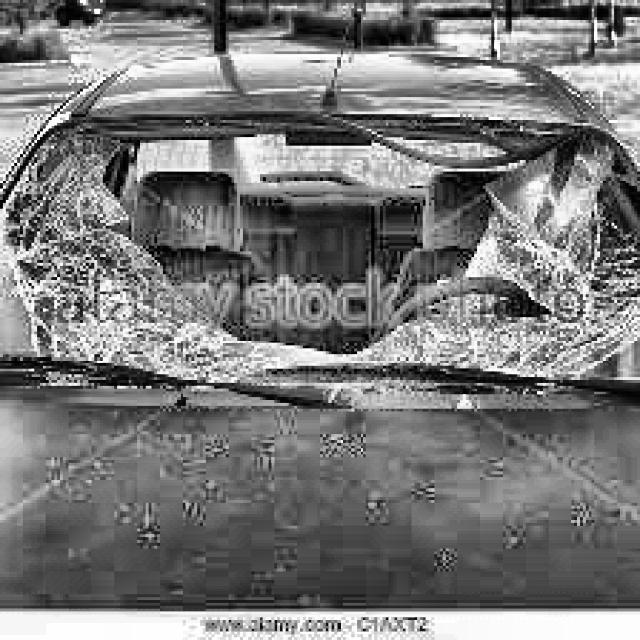glass_shatter: (69, 132, 602, 360)
